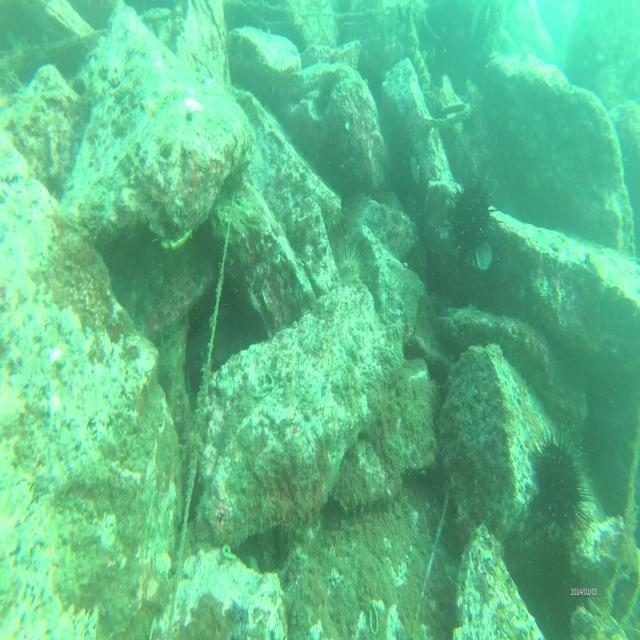echinus: (534, 432, 586, 538), (449, 180, 491, 264), (337, 247, 366, 288)
